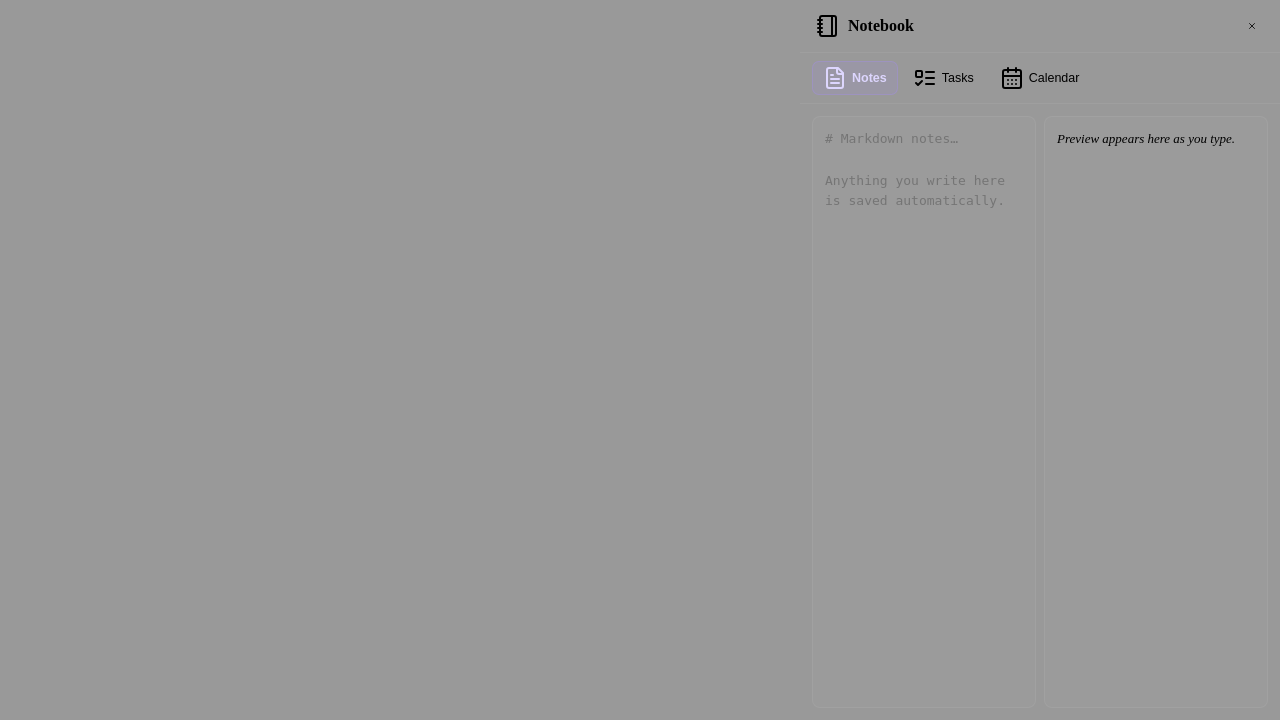
Test case: <NotebookPanel> › 7b. Tasks empty state shows "No tasks." message
Step 1. Click the tab "Tasks" → (943, 78), box [902,61,985,95]
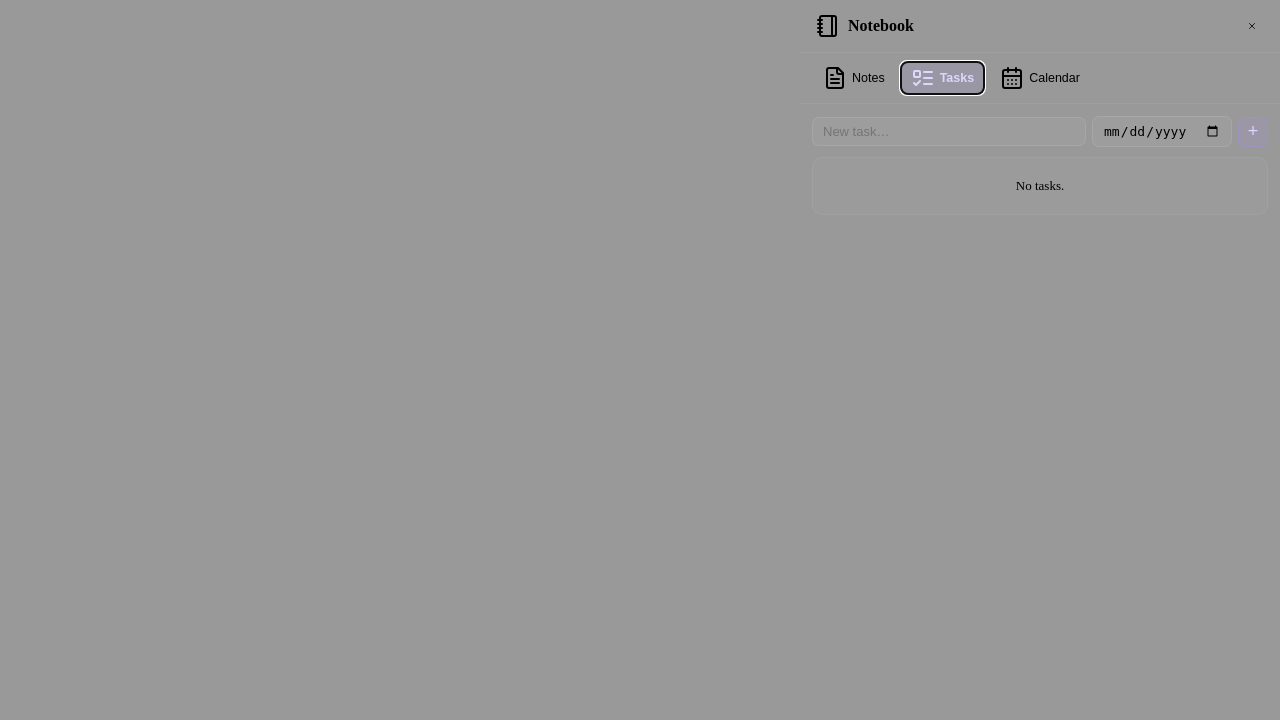
Expected: the text "No tasks." is shown, [812,157,1268,215]
